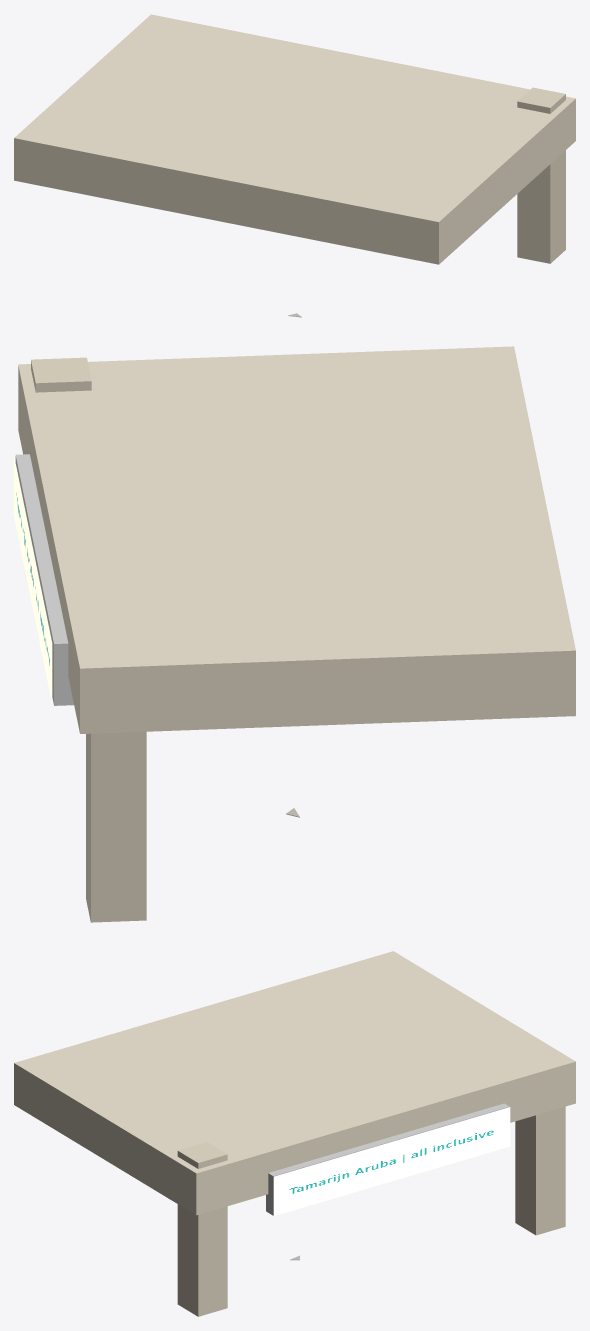
File: tamarijn_entry.glb
The picture shows the model from 3 angles, top to bottom: view 1: azimuth 30°, elevation 25°; view 2: azimuth 150°, elevation 25°; view 3: azimuth 270°, elevation 25°; orthographic projection. The views are drawn at different scales.
Visible parts, largest first — view 1: tamarijn_entry_lod0; view 2: tamarijn_entry_lod0; view 3: tamarijn_entry_lod0.
Part boxes in pixels (x1=…): tamarijn_entry_lod0: x1=14, y1=14, x2=575, y2=317; tamarijn_entry_lod0: x1=14, y1=346, x2=575, y2=922; tamarijn_entry_lod0: x1=14, y1=951, x2=575, y2=1316.
Size of what is drawn, in the model's own units: 10.23 by 4.33 by 10.93.
Materials: 6 (1 with a texture image).
